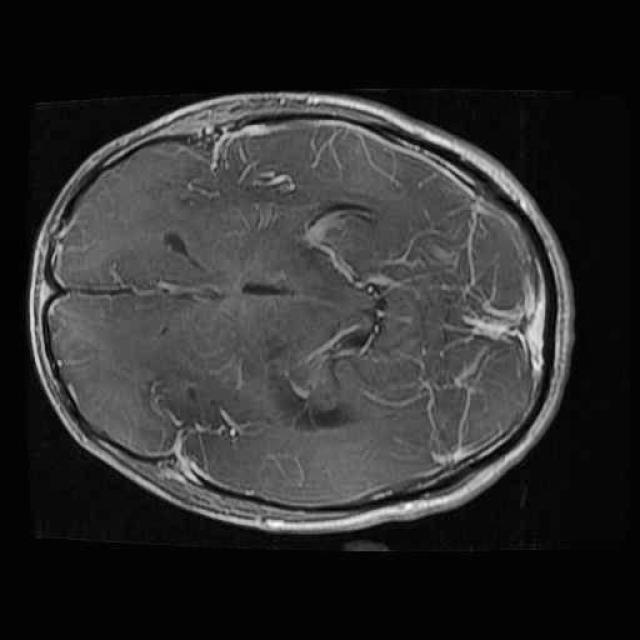Non-Tumor: (258, 331, 368, 444)
